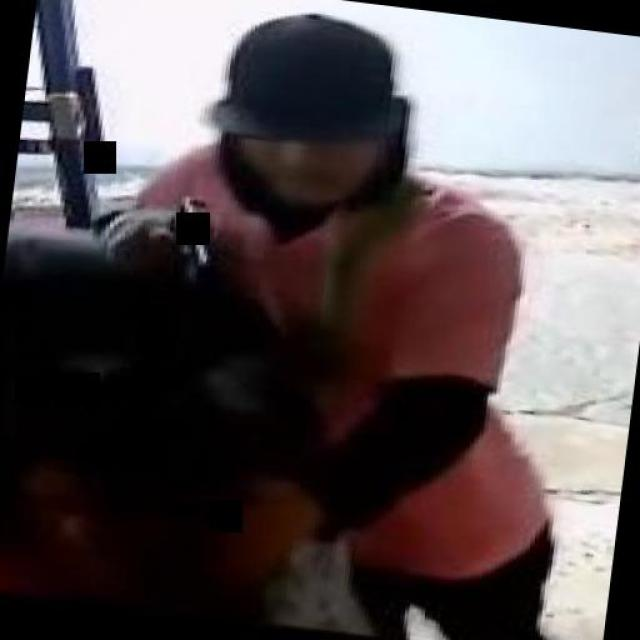gun: (136, 184, 235, 286)
